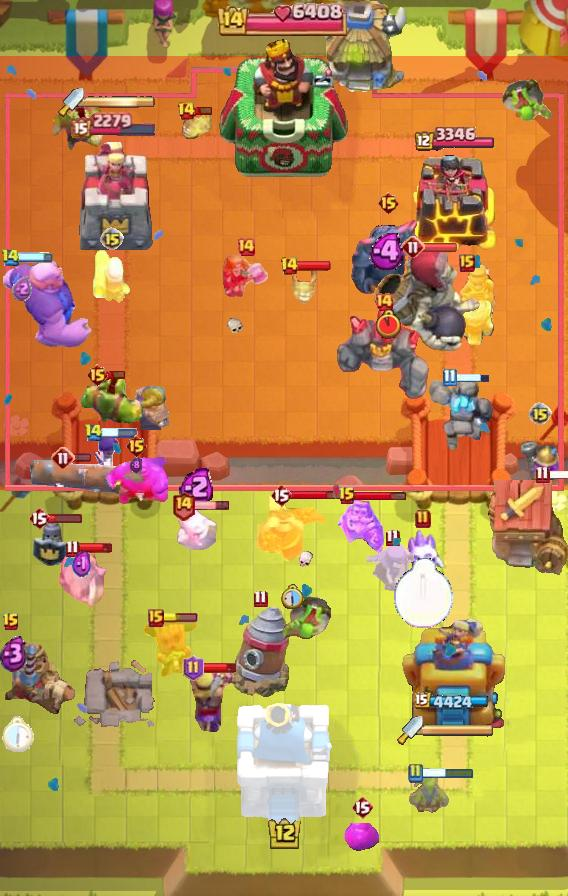bar: (421, 767, 474, 780), (354, 491, 407, 502), (290, 490, 343, 501), (201, 662, 237, 674), (77, 542, 113, 554), (296, 260, 332, 272), (193, 500, 230, 511), (47, 513, 83, 524), (17, 252, 53, 263), (422, 242, 458, 253), (455, 372, 490, 383), (100, 428, 138, 438), (162, 613, 198, 623), (548, 469, 568, 480), (106, 369, 126, 380), (193, 105, 213, 116), (73, 452, 92, 463)
bar-level: (171, 490, 196, 521), (51, 446, 75, 470), (528, 402, 552, 426), (401, 235, 425, 259), (100, 227, 124, 251), (125, 434, 148, 458), (86, 363, 109, 387), (377, 191, 400, 215), (183, 655, 204, 681), (351, 795, 373, 819), (28, 506, 50, 530), (270, 483, 292, 507), (374, 292, 394, 312), (236, 237, 256, 257), (280, 256, 299, 276), (177, 101, 196, 121), (84, 423, 103, 442), (1, 248, 20, 267), (2, 612, 20, 632), (338, 486, 356, 506), (407, 763, 423, 783), (415, 509, 431, 529), (148, 609, 164, 627), (459, 254, 475, 272), (253, 589, 268, 608), (65, 539, 80, 558), (385, 528, 400, 547), (535, 465, 550, 484), (442, 368, 457, 387)
barbarian-evolution: (185, 668, 235, 734)
clock: (393, 558, 454, 629), (0, 716, 34, 753), (376, 309, 401, 339), (281, 584, 305, 610)
dagger-duchess-tower: (401, 615, 506, 731), (73, 140, 155, 256)
dagger-duchess-tower-bar: (423, 723, 495, 737), (84, 95, 156, 109)
dart-goblin: (142, 615, 200, 681)
elite-barbarian: (133, 384, 169, 431)
elixir: (179, 466, 216, 507), (369, 233, 408, 270), (0, 635, 28, 672), (72, 549, 92, 580), (12, 276, 32, 301), (130, 457, 142, 473)
elixir-golem-mid: (104, 456, 168, 506)
elixir-golem-small: (344, 823, 380, 853)
firecracker: (91, 247, 133, 305)
goblin: (407, 775, 451, 817)
goblin-ball: (278, 594, 332, 642), (500, 77, 554, 125)
goblin-brawler: (78, 376, 146, 432), (48, 100, 108, 154)
golemite: (425, 375, 499, 457)
guard: (32, 514, 76, 570)
ice-spirit: (175, 504, 219, 550)
ice-spirit-evolution: (401, 527, 445, 581)
king-tower: (218, 37, 350, 181), (235, 703, 333, 826)
king-tower-bar: (217, 2, 351, 36)
knight-evolution: (338, 496, 384, 554)
lava-pup: (179, 110, 215, 142), (290, 266, 320, 304)
mother-witch: (360, 541, 424, 603)
musketeer: (521, 427, 559, 489)
queen-tower: (408, 154, 498, 256)
ram-rider: (454, 262, 500, 346)
royal-ghost: (54, 544, 110, 610)
skeleton-evolution: (91, 433, 123, 473)
the-log: (28, 458, 130, 494)
tower-bar: (70, 111, 158, 138), (412, 127, 494, 153), (415, 692, 492, 712)
valkyrie: (222, 253, 270, 299)
